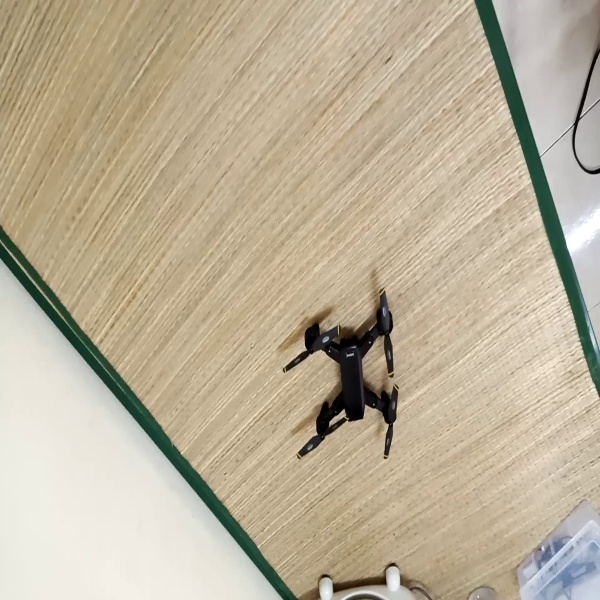drone: (272, 281, 419, 469)
